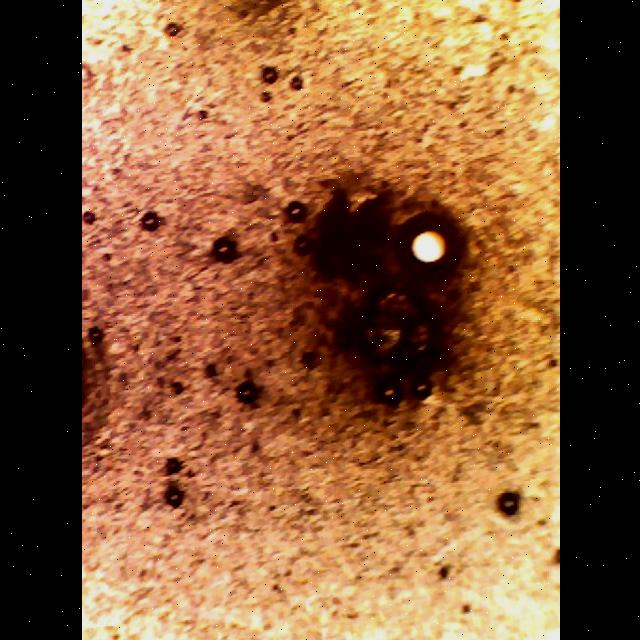microbeads: (389, 203, 467, 294)
